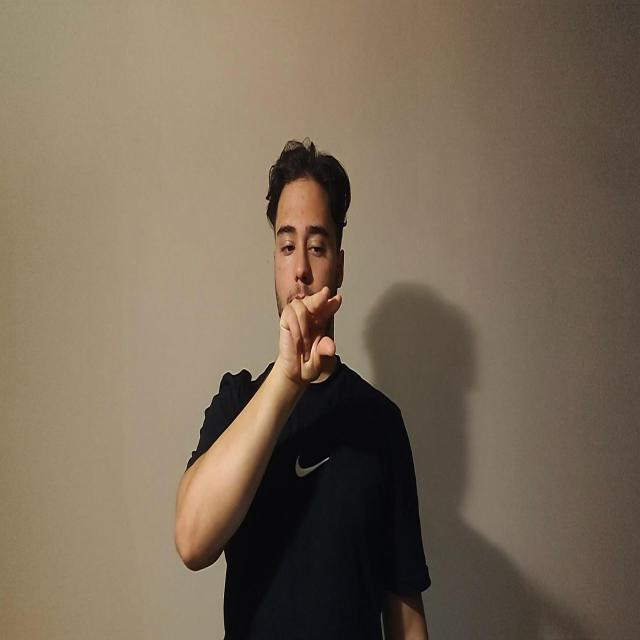no: (278, 284, 342, 386)
